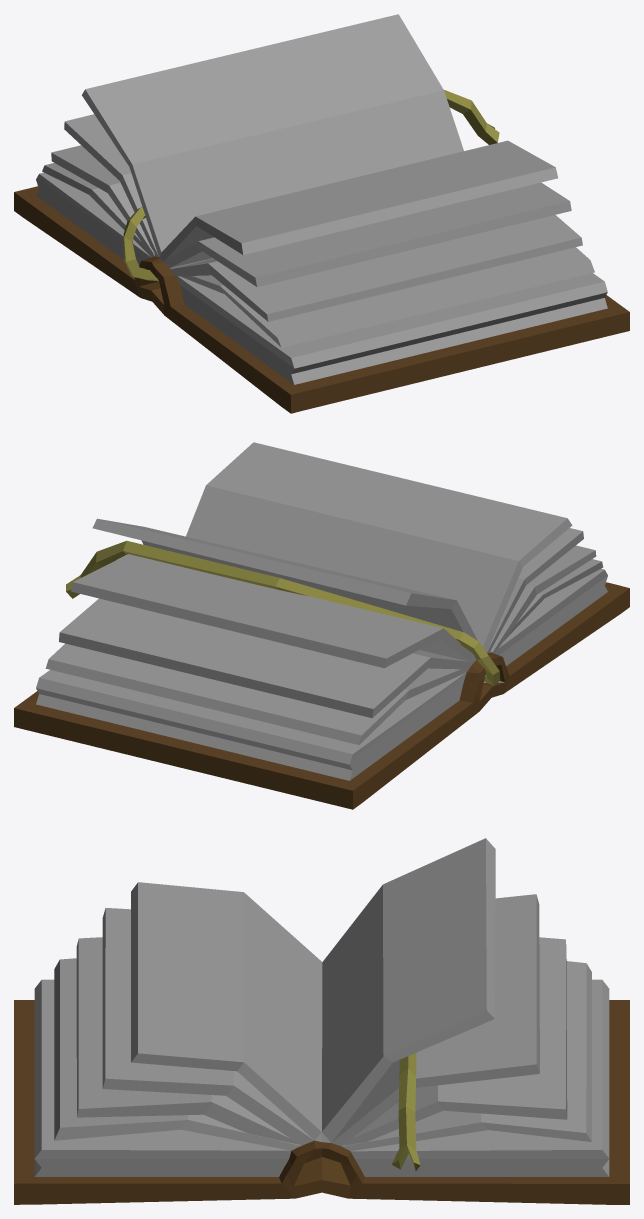
The model's file is book02.fbx.
3 renders of one model, top to bottom at view 1: azimuth 30°, elevation 25°; view 2: azimuth 150°, elevation 25°; view 3: azimuth 270°, elevation 25°, orthographic. The views are drawn at different scales.
Parts seen in each view (by area): view 1: book02; view 2: book02; view 3: book02.
Boxes of the visible parts, x1,y1,x2,y2 form: book02: (14,14,629,413); book02: (14,442,629,809); book02: (14,838,629,1204).
Bounding box in the file's own units: 0.3593 × 0.1434 × 0.4292.
